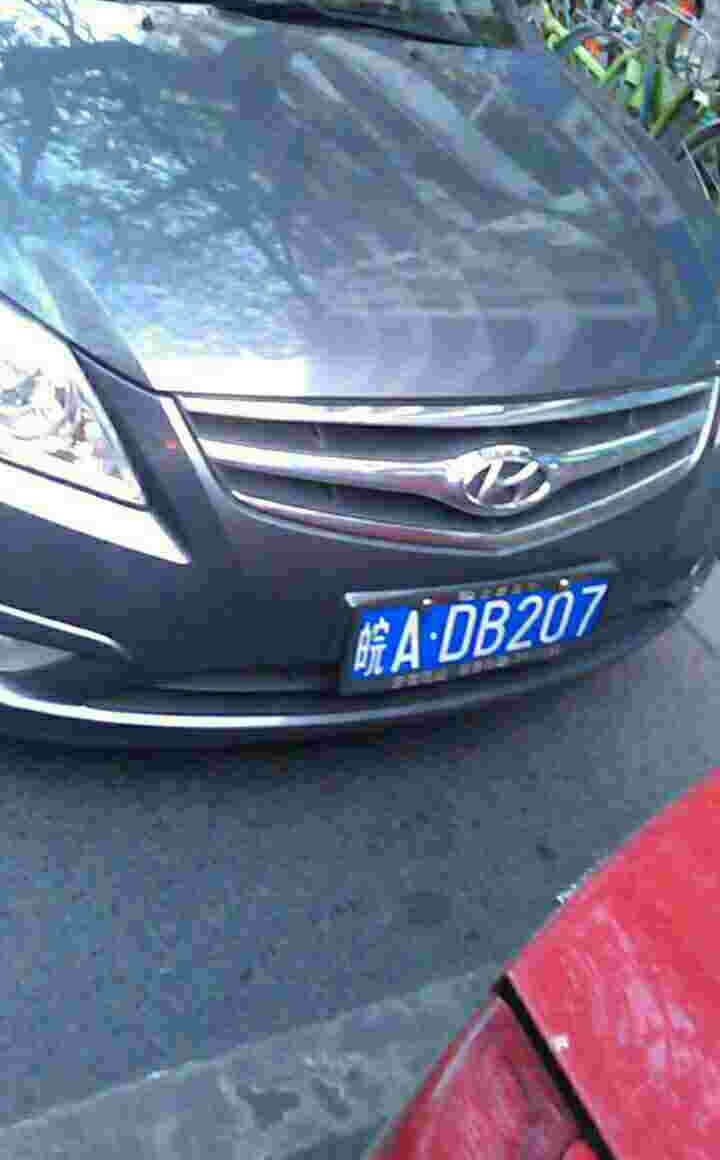license_plate: (356, 585, 615, 672)
